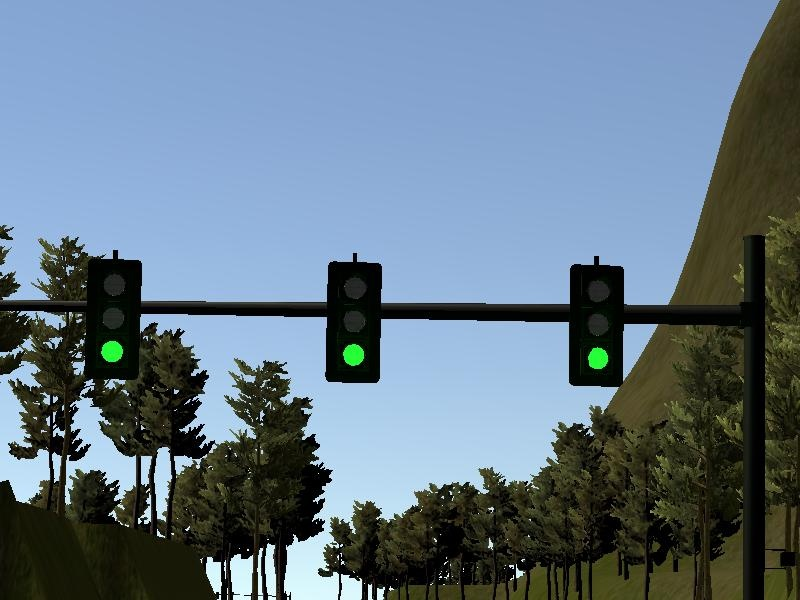traffic_light_green: (54, 248, 739, 388)
